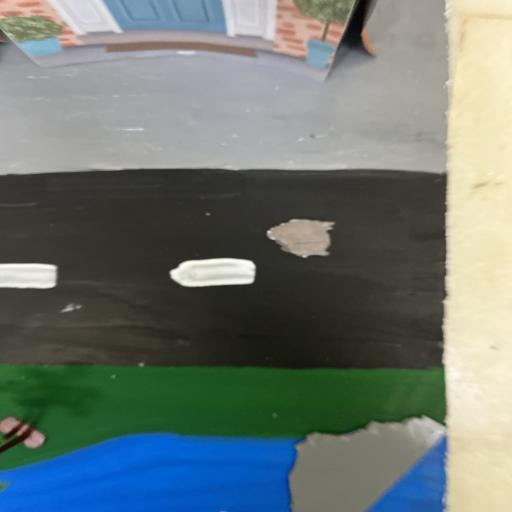encroachment: (287, 421, 448, 512)
porthole: (264, 218, 340, 259)
